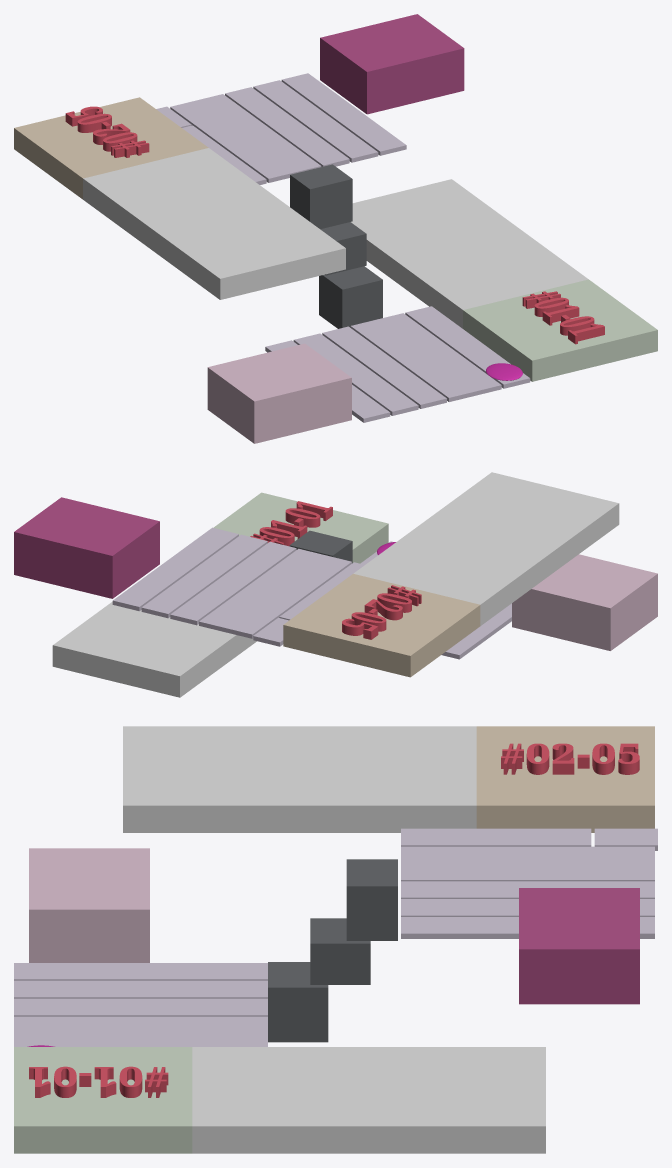
File: FLOOR LAYOUT.glb
The picture shows the model from 3 angles, top to bottom: view 1: azimuth 30°, elevation 25°; view 2: azimuth 150°, elevation 25°; view 3: azimuth 270°, elevation 25°; orthographic projection. The views are drawn at different scales.
Visible parts, largest first — view 1: Mesh_Mesh_head_geo.001_lambert2SG.001; view 2: Mesh_Mesh_head_geo.001_lambert2SG.001; view 3: Mesh_Mesh_head_geo.001_lambert2SG.001.
Boxes of the visible parts, left/top/right/bottom form: Mesh_Mesh_head_geo.001_lambert2SG.001: left=14, top=14, right=657, bottom=443; Mesh_Mesh_head_geo.001_lambert2SG.001: left=14, top=472, right=657, bottom=697; Mesh_Mesh_head_geo.001_lambert2SG.001: left=14, top=726, right=657, bottom=1153.
Size of the model in its own units: 197 by 75 by 213.
